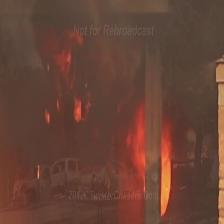fire: (39, 29, 178, 224)
